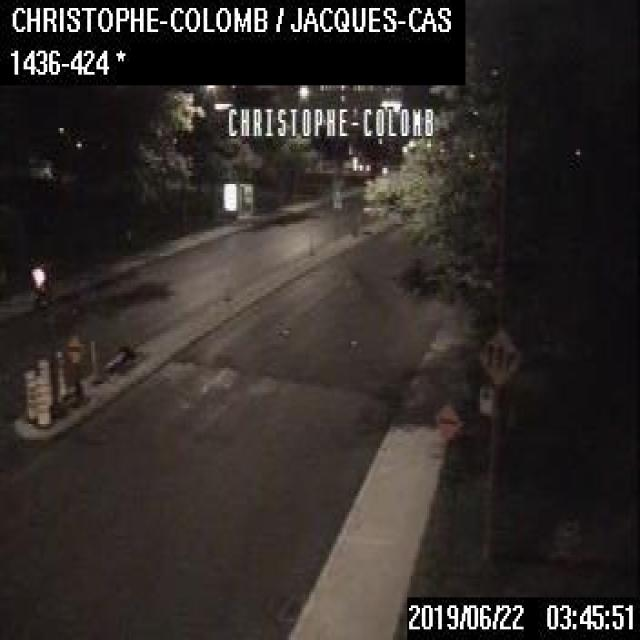construction: (433, 401, 460, 483), (64, 334, 84, 406), (32, 371, 52, 426), (35, 356, 53, 413), (22, 366, 36, 420), (55, 347, 67, 405)
